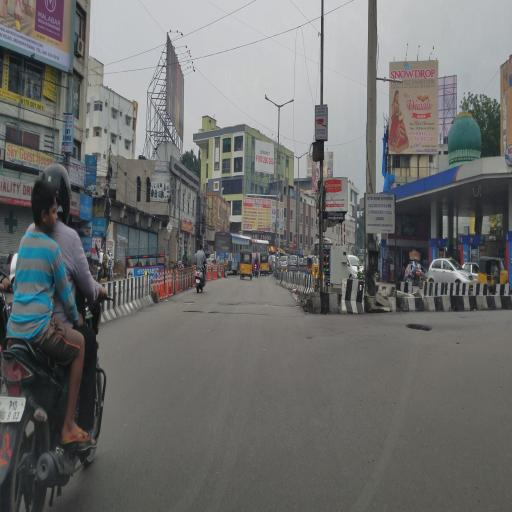street_light_0: (260, 84, 277, 114), (276, 91, 298, 109)
